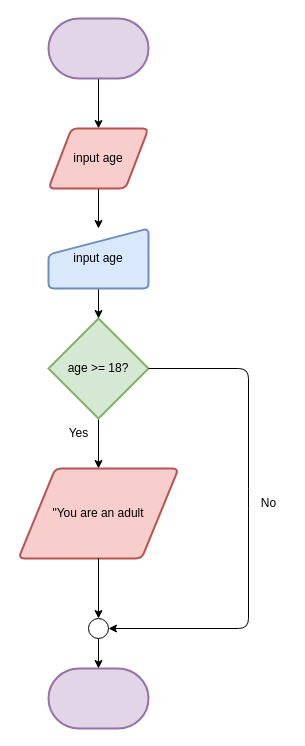
Some shapes in this 305 by 746 pixel diagram are drawn without their labels. Here are the shapes that lost their labels. From the top down, the centre of each, then its label:
(98,48): Staet
(98,698): END
